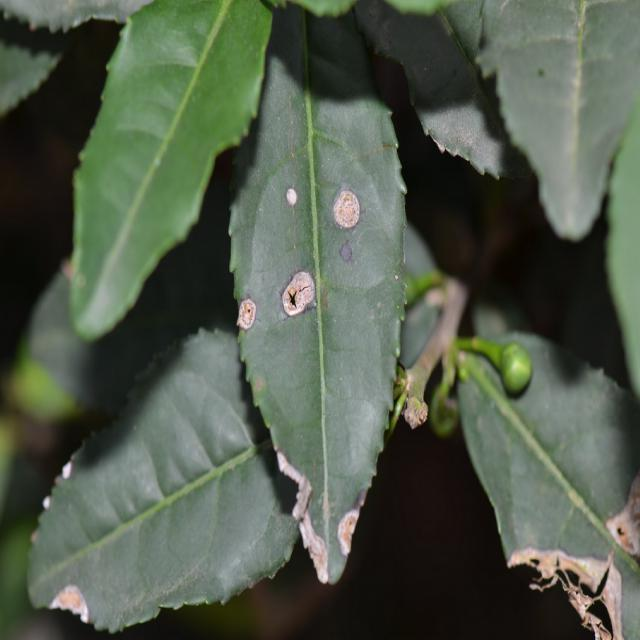Tea cloud leaf blight: (271, 449, 373, 579), (316, 174, 391, 242), (271, 257, 337, 326), (42, 568, 93, 625), (231, 282, 269, 350)
